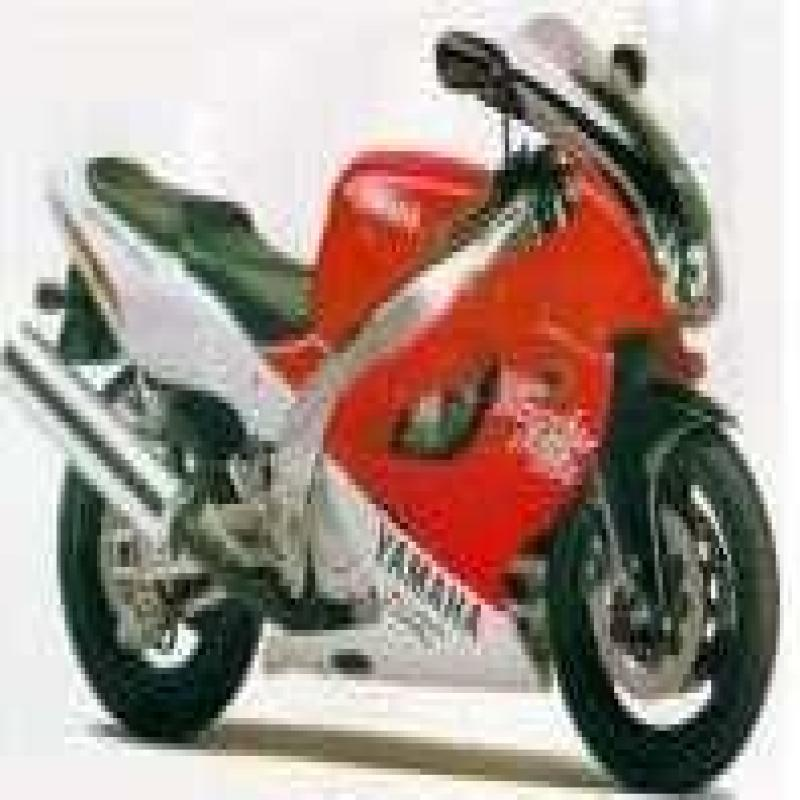bike: (10, 14, 785, 800)
